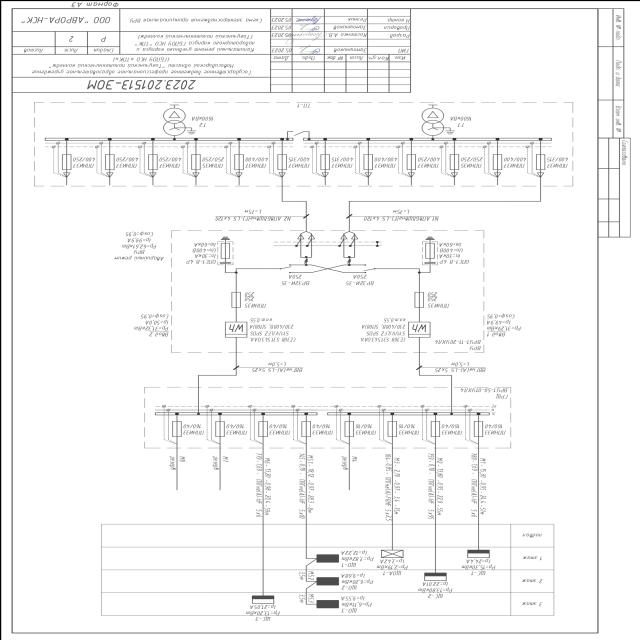-: (248, 316, 296, 343), (360, 315, 406, 343), (437, 240, 468, 264), (184, 240, 215, 264), (433, 338, 481, 350), (279, 272, 311, 286), (242, 290, 266, 308), (344, 272, 373, 286), (425, 291, 449, 307)
FU: (412, 290, 424, 308), (229, 291, 241, 308)
OPS: (420, 240, 438, 265), (215, 240, 232, 264)
WH: (407, 318, 432, 338), (223, 320, 247, 337)
switch: (278, 263, 312, 273), (346, 262, 374, 272)
